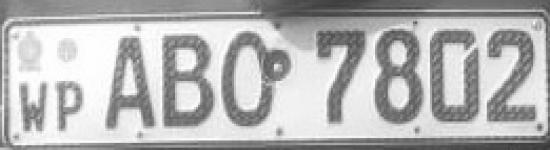0: (428, 21, 484, 136)
2: (487, 28, 541, 131)
7: (309, 26, 368, 130)
8: (368, 25, 426, 131)
A: (98, 28, 159, 132)
B: (161, 30, 217, 132)
O: (217, 25, 277, 132)
P: (53, 76, 87, 138)
W: (16, 78, 50, 136)
